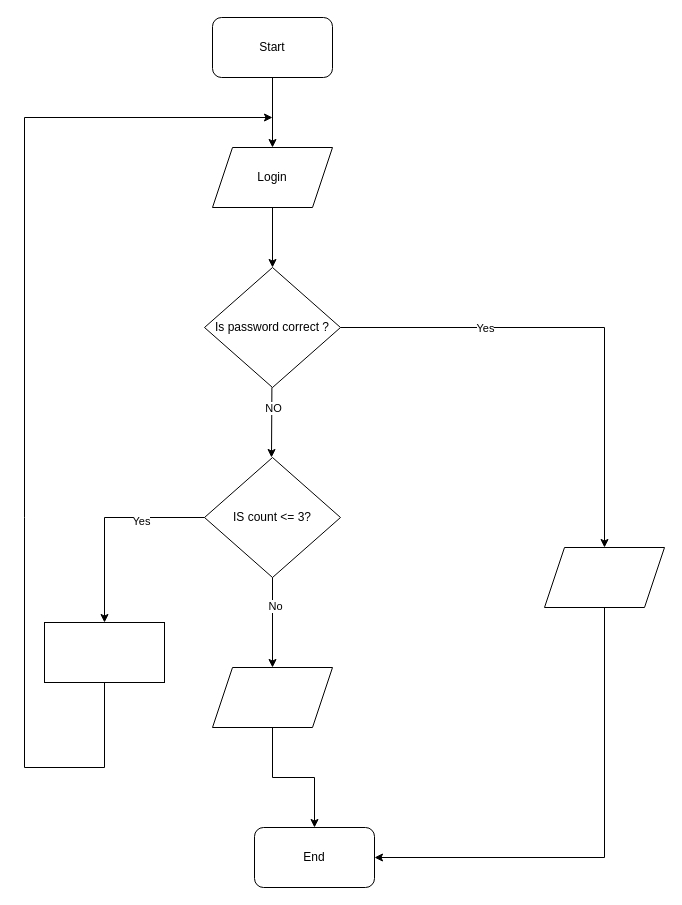
Some shapes in this 682 by 905 pixel diagram are drawn without their labels. The shapes that lost their labels are listed below. From the top down, each one's centre as x and y in pixels, then its label:
the point at 604,577: Display : Welcome
the point at 104,652: Count++
the point at 272,697: Display : Account is Locked
